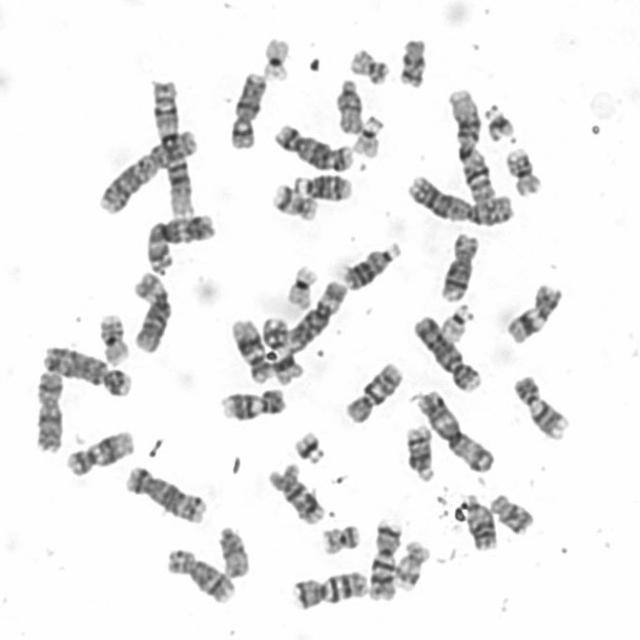A1: (147, 74, 195, 220), (444, 84, 496, 204)
A2: (96, 128, 200, 218), (403, 170, 516, 228)
A3: (413, 386, 496, 475), (141, 210, 218, 275)
B4: (410, 310, 483, 393), (42, 344, 133, 400)
B5: (122, 461, 208, 525), (272, 120, 357, 173)
C10: (342, 358, 406, 425), (265, 464, 327, 526)
C11: (502, 280, 562, 346), (262, 316, 306, 387)
C12: (62, 426, 137, 478), (228, 313, 271, 384)
C6: (280, 276, 349, 351), (128, 268, 174, 355)
C7: (289, 566, 369, 610), (366, 517, 404, 602)
C8: (161, 543, 238, 606), (438, 230, 481, 303)
C9: (511, 370, 572, 441), (217, 386, 288, 422)
D13: (339, 238, 402, 292), (462, 492, 498, 551)
D14: (402, 422, 437, 485), (291, 170, 354, 202)
D15: (214, 522, 250, 579), (333, 75, 364, 135)
E16: (502, 143, 542, 198), (95, 310, 131, 366)
E17: (392, 537, 431, 592), (270, 180, 318, 224)
E18: (487, 488, 535, 536), (394, 33, 429, 90)
F19: (282, 261, 321, 308), (257, 34, 293, 84)
F20: (345, 44, 391, 86), (318, 520, 362, 555)
G21: (290, 428, 328, 466), (482, 103, 515, 143)
G22: (350, 113, 386, 157), (438, 301, 475, 342)
X: (226, 69, 268, 152), (31, 368, 66, 454)
